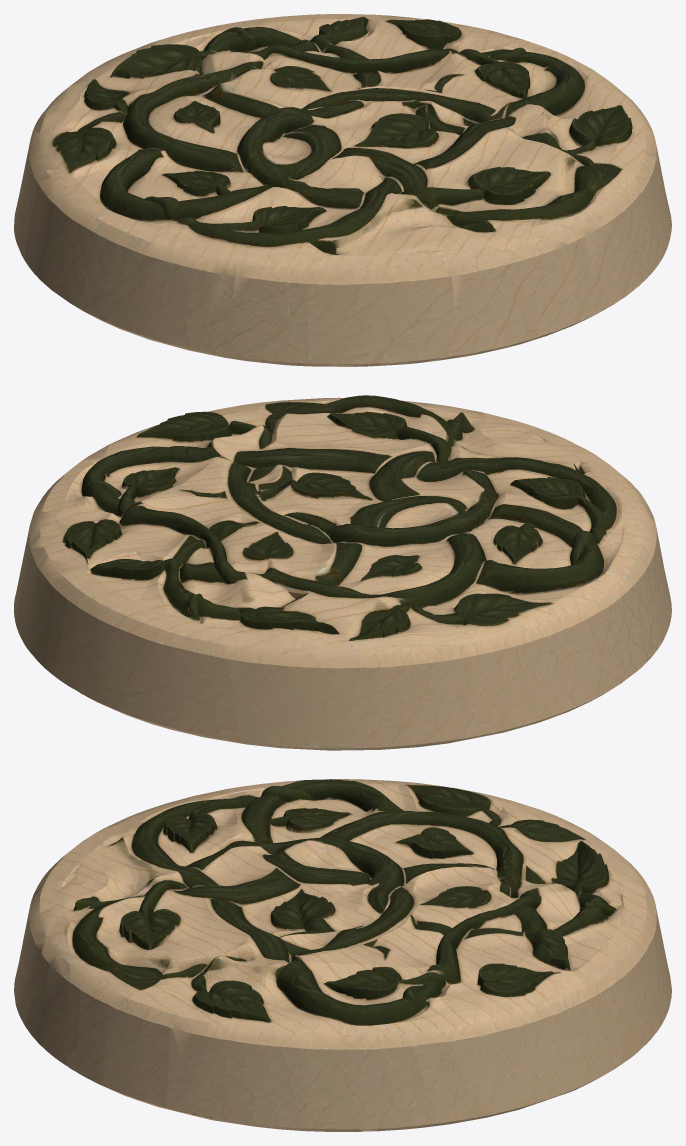
Rendered from RENOUEE.glb.
3 views of the same model, one above another, from view 1: azimuth 30°, elevation 25°; view 2: azimuth 150°, elevation 25°; view 3: azimuth 270°, elevation 25° (orthographic).
Parts seen in each view (by area): view 1: Mesh_0; view 2: Mesh_0; view 3: Mesh_0.
Part boxes in pixels (x1,y1,x2,y2): Mesh_0: [14, 14, 671, 366]; Mesh_0: [14, 395, 671, 750]; Mesh_0: [14, 779, 671, 1131].
Bounding box in the file's own units: 1.9 × 0.3641 × 1.9.
Materials: 1 (1 with a texture image).
